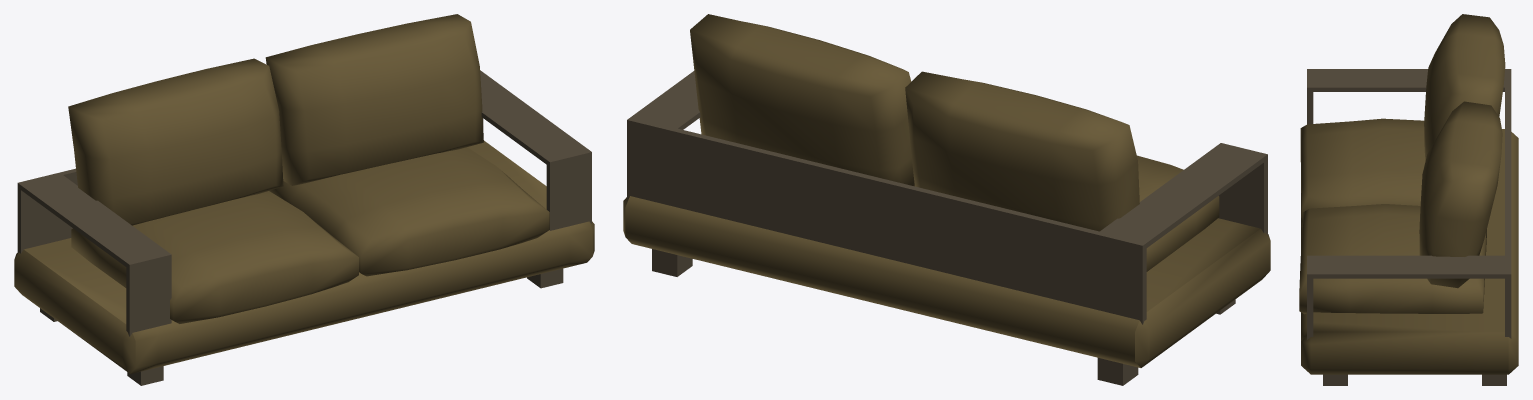
The model's file is Couch_Medium2.glb.
3 renders of one model, left to right at view 1: azimuth 30°, elevation 25°; view 2: azimuth 150°, elevation 25°; view 3: azimuth 270°, elevation 25°, orthographic. The views are drawn at different scales.
Parts seen in each view (by area): view 1: Couch_Medium2_Cube.047; view 2: Couch_Medium2_Cube.047; view 3: Couch_Medium2_Cube.047.
Part boxes in pixels (x1,y1,x2,y2): Couch_Medium2_Cube.047: (14, 14, 594, 385); Couch_Medium2_Cube.047: (623, 14, 1270, 385); Couch_Medium2_Cube.047: (1299, 14, 1518, 385).
Size of the model in its own units: 4.52 by 1.96 by 2.
